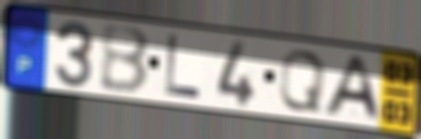3: (53, 19, 95, 90)
4: (214, 37, 259, 110)
A: (319, 54, 385, 124)
B: (98, 24, 153, 98)
L: (163, 32, 204, 102)
Q: (276, 48, 329, 115)
